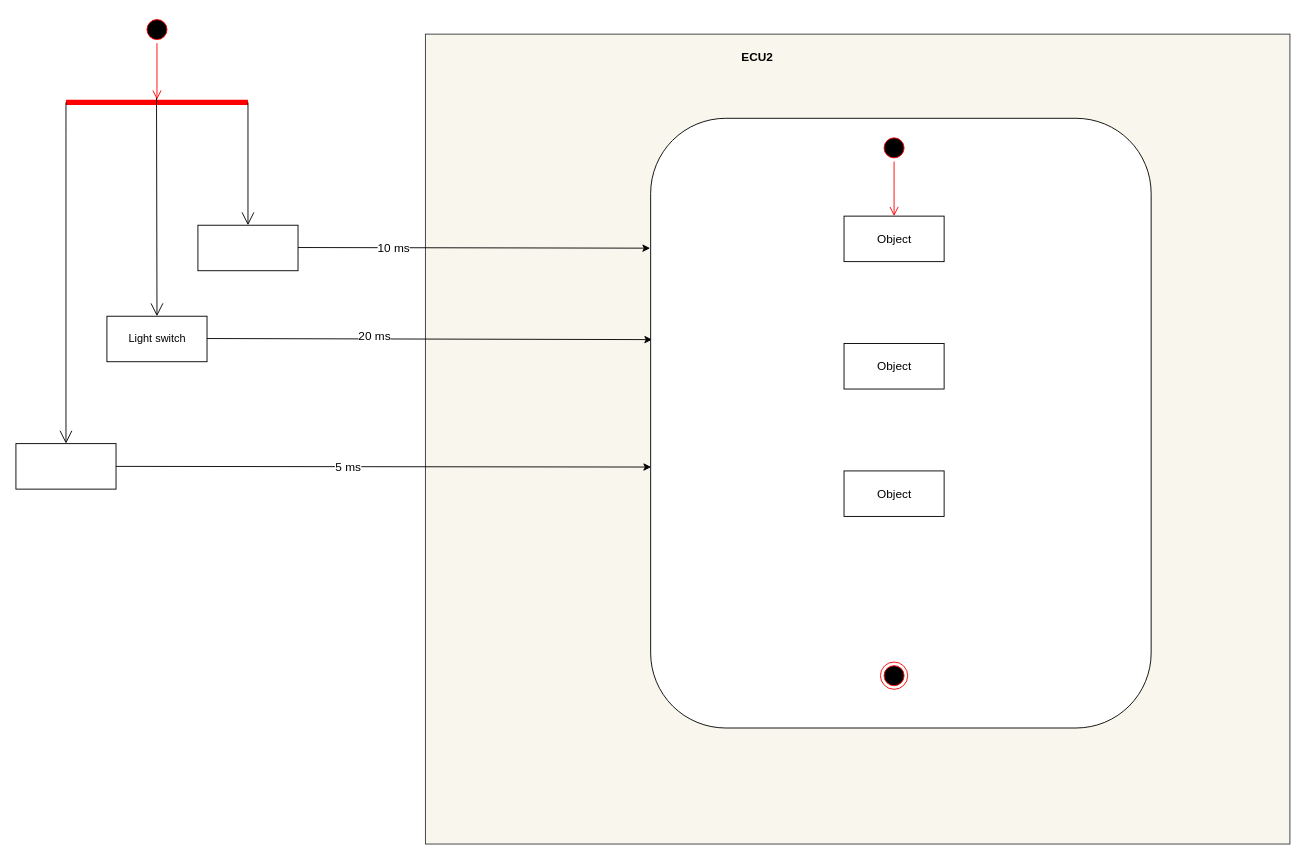
Image size: 1306x860. Some labels were removed from this diagram. The box of each missing label's shape, as (x1, y1, x2, y2) in pixels:
Door: (197, 224, 298, 271)
Speed: (15, 443, 116, 489)
